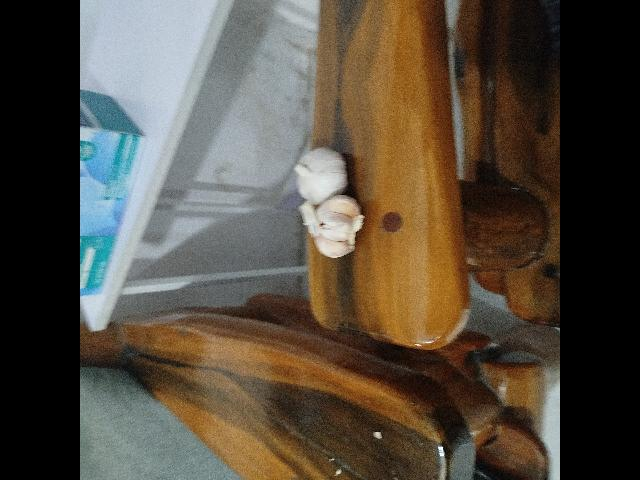garlic: (298, 194, 364, 258), (294, 146, 348, 204)
